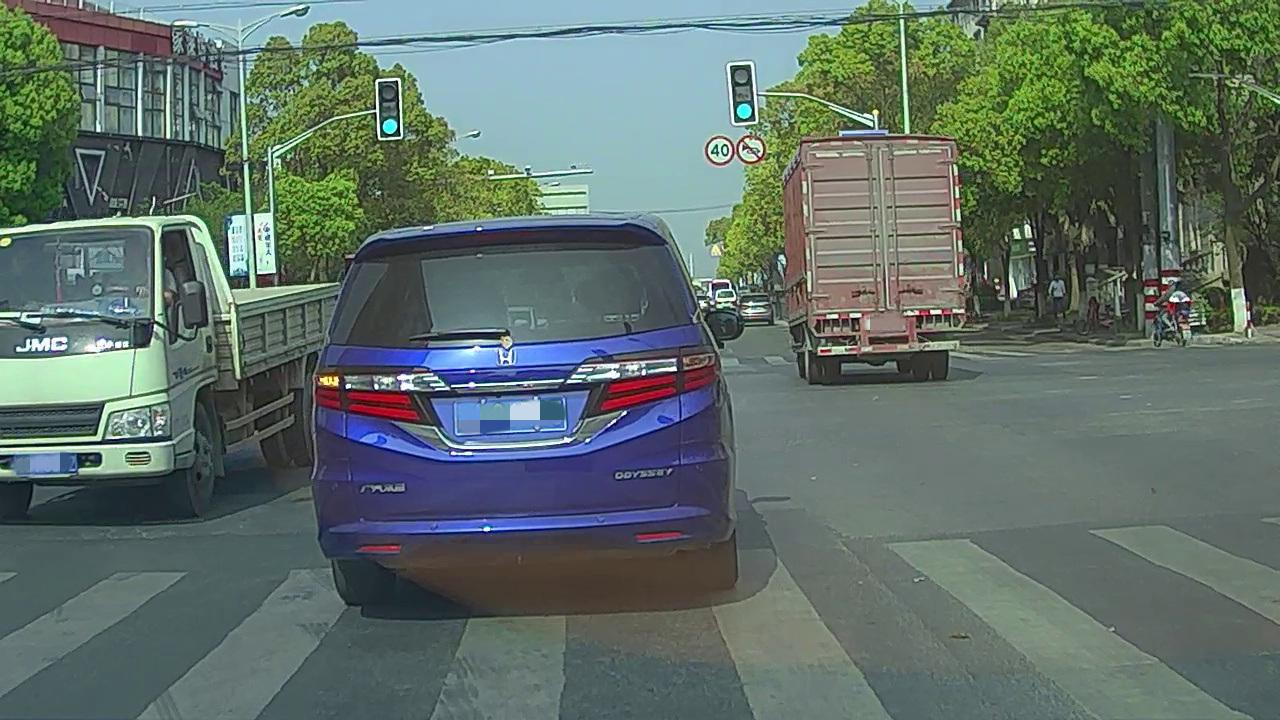traffic_light: (730, 64, 757, 123), (377, 79, 401, 139)
